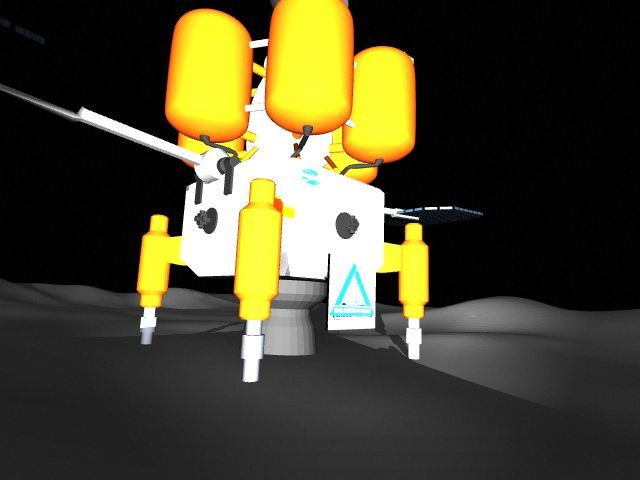basemarker: (329, 261, 375, 320)
